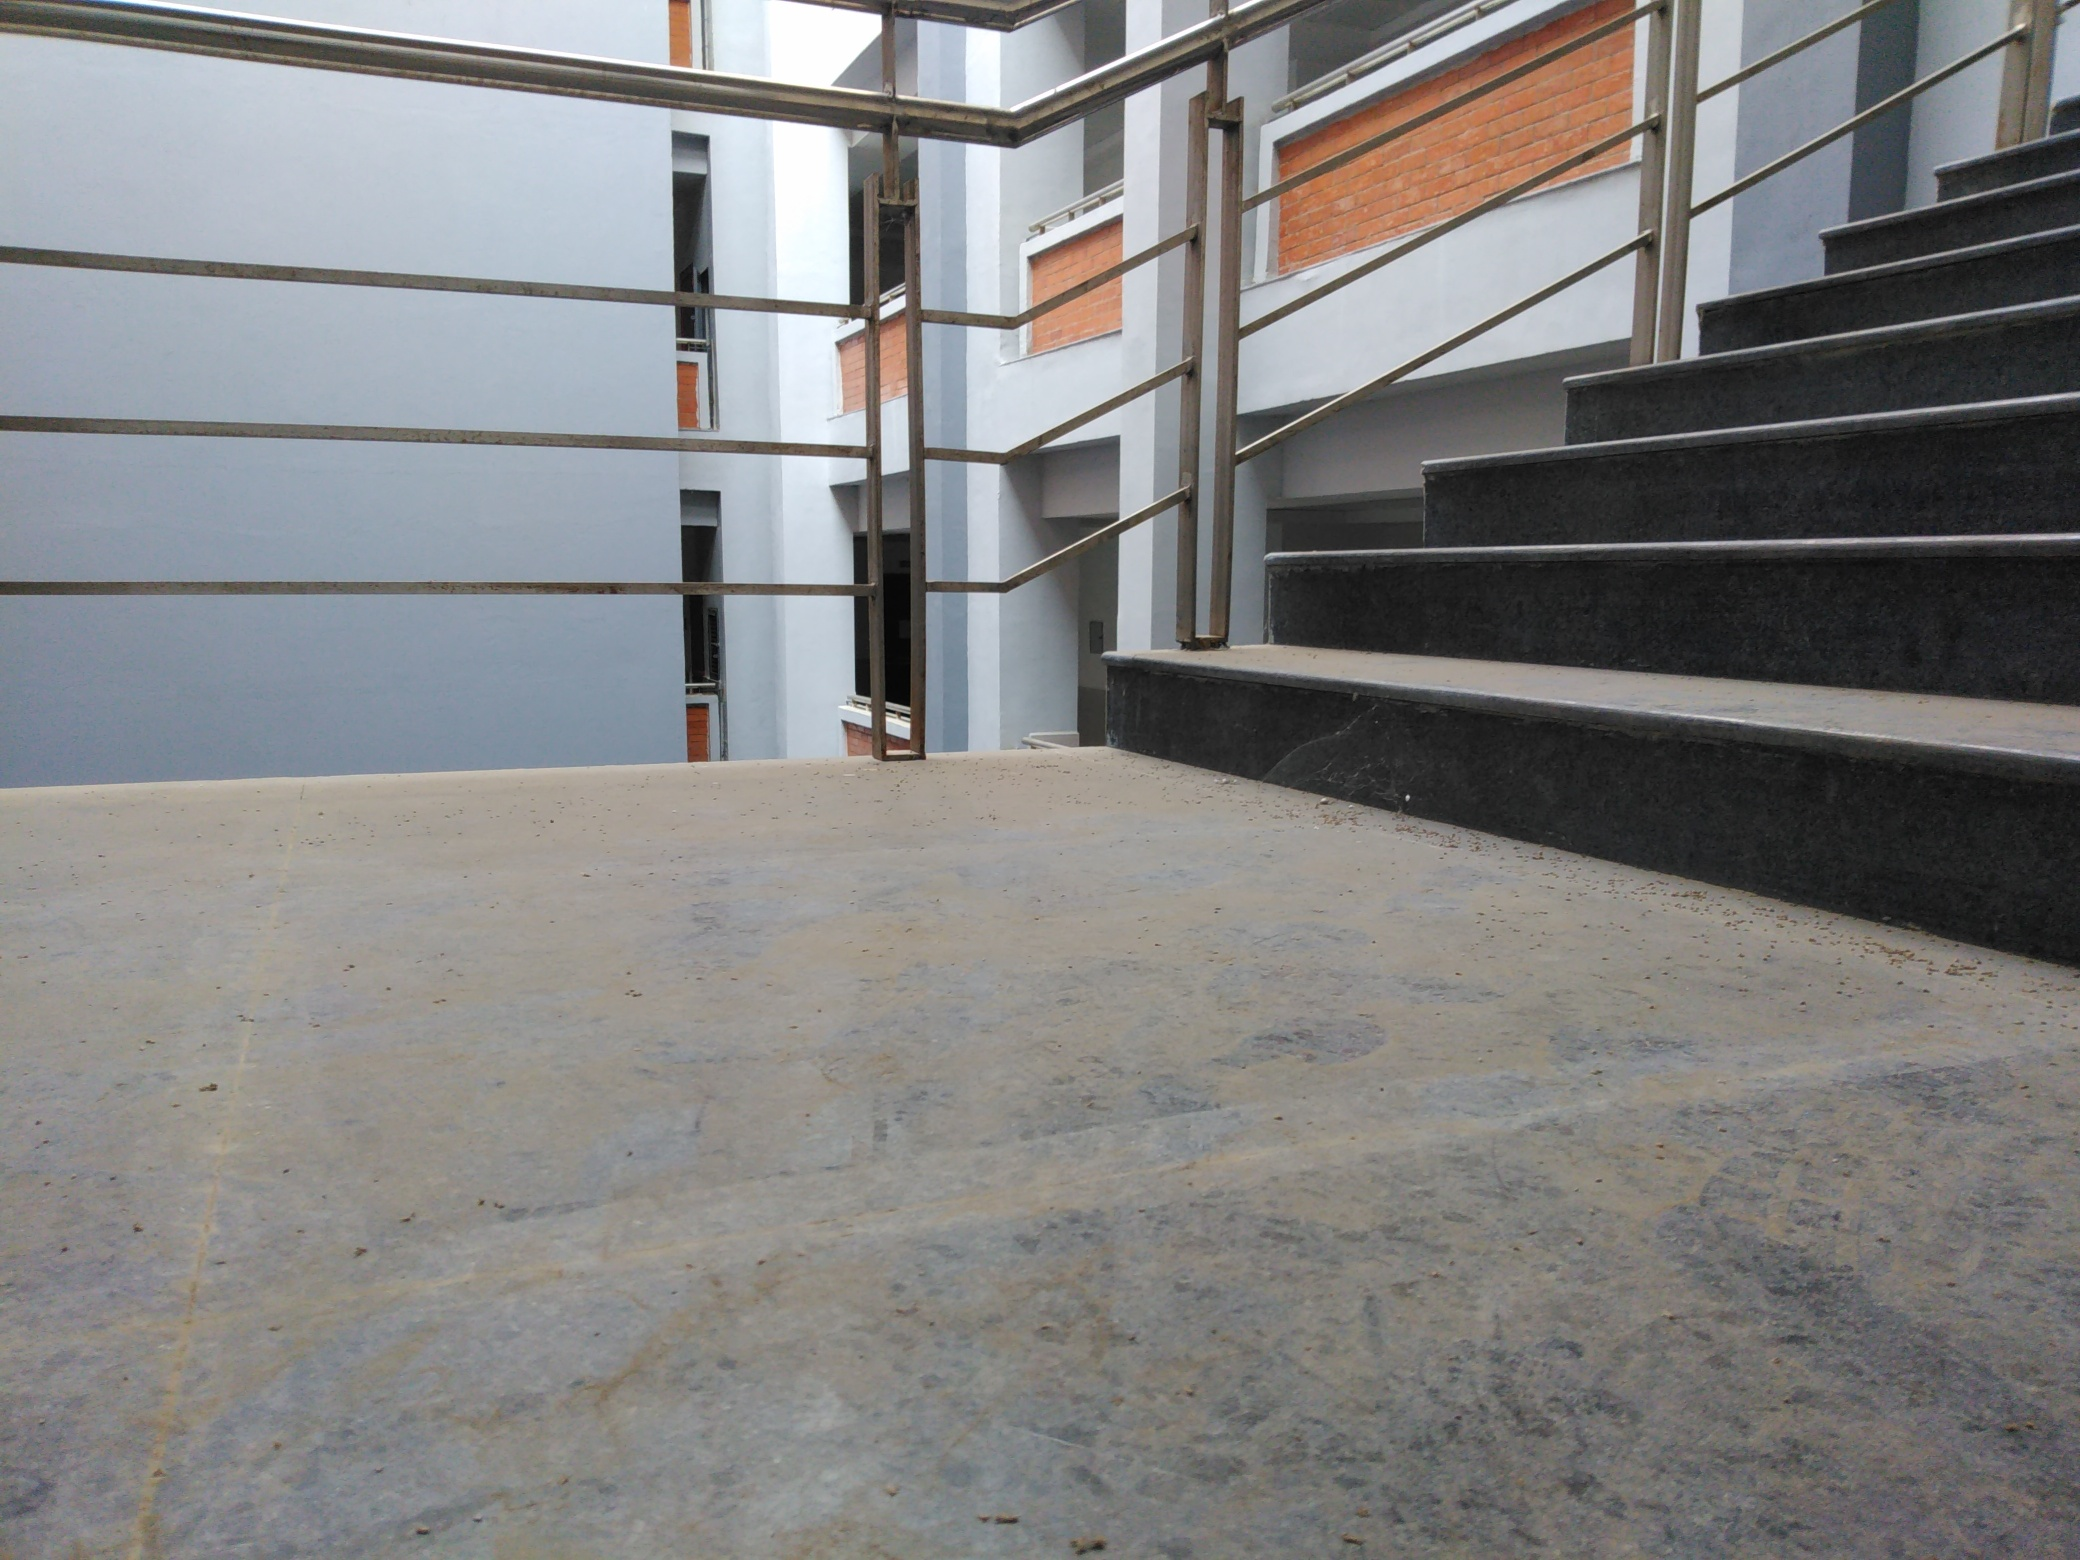stairs_up: (1087, 67, 2075, 895)
